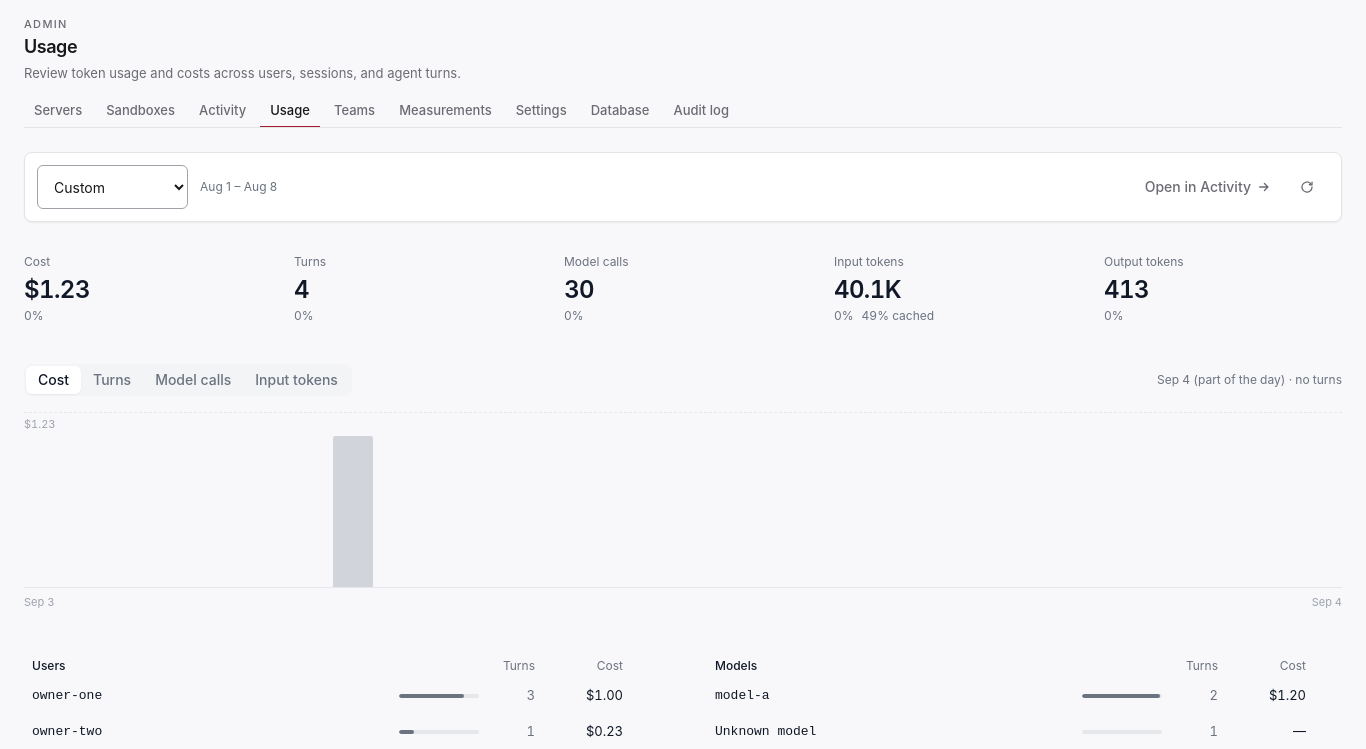
it: admin usage page › keeps the previous numbers when a refresh of the same window fails
Expected: the element named "Chart" is shown, [24,364,352,396]
Click the button named "Refresh" at (1307, 187), box [1285,165,1329,209]
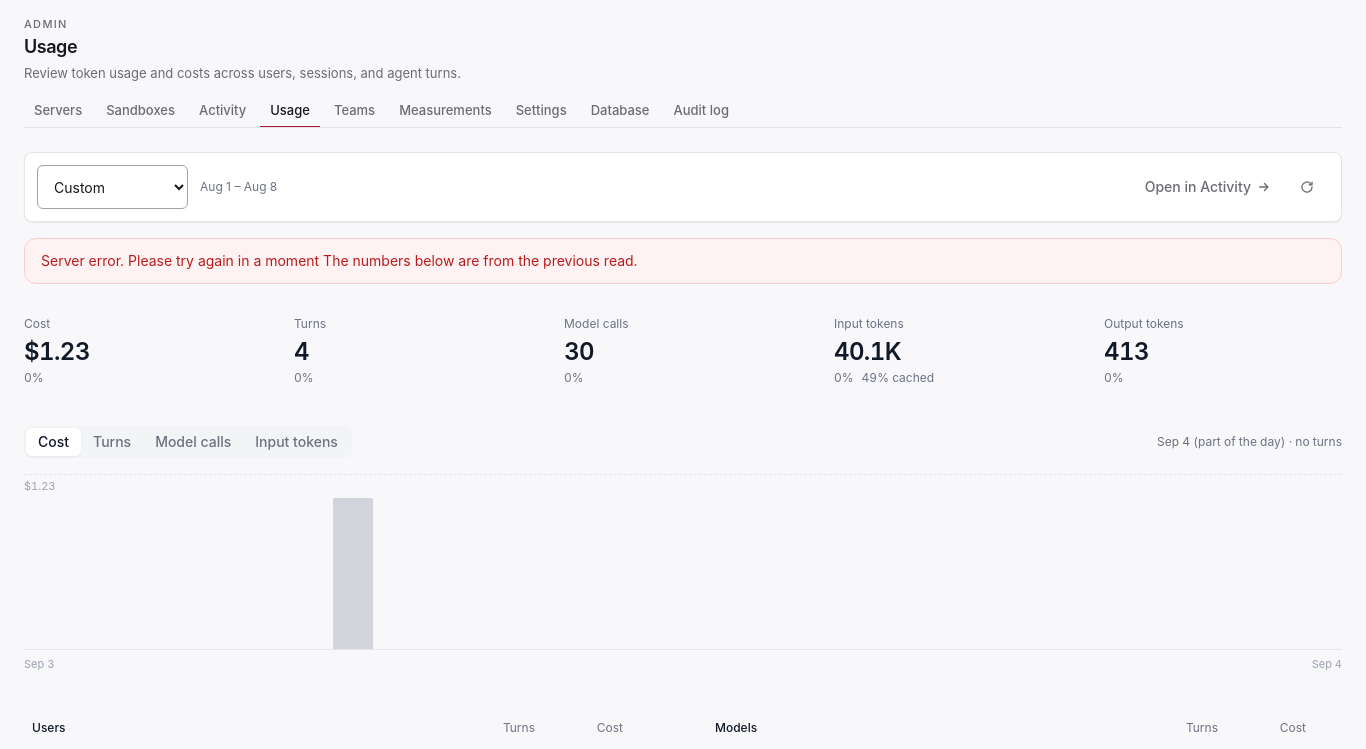
Expected: the text "$1.23" in the row of "30" is shown, [24,337,90,366]
Now the message shows "The numbers below are from the previous read.", box [319,252,638,269]
